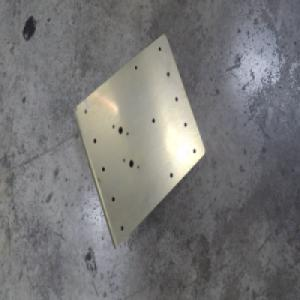MetalSheet: (70, 32, 205, 251)
